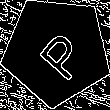P_NW: (26, 20, 87, 81)
